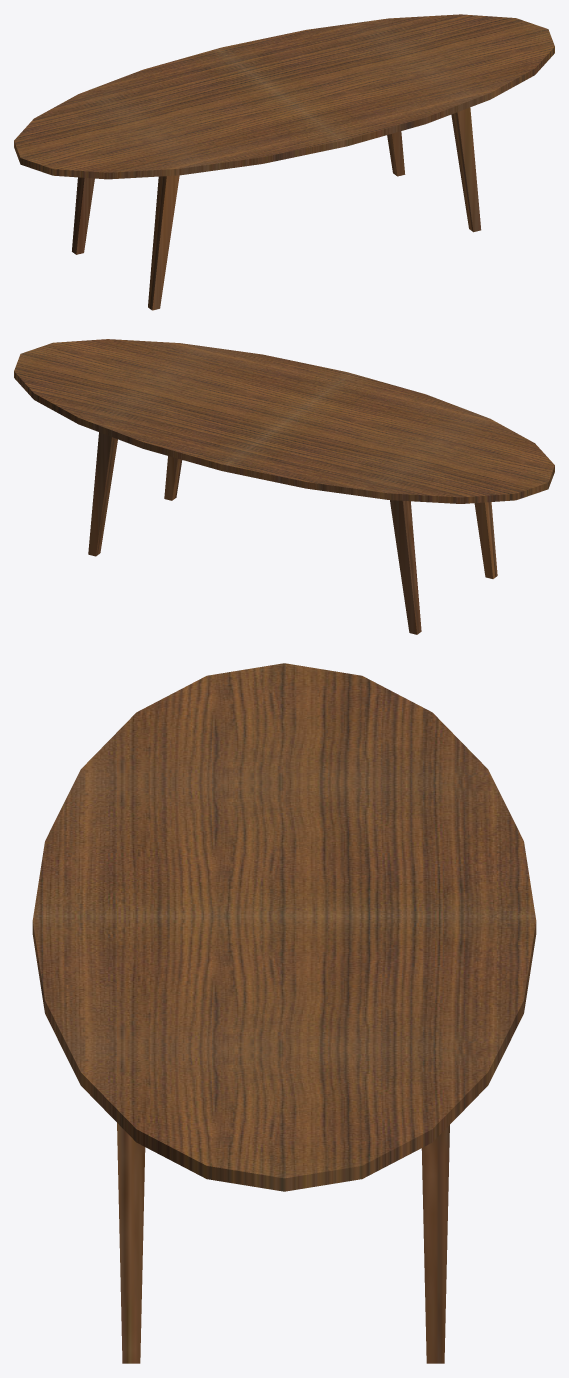
Rendered from bord.fbx.
The picture shows the model from 3 angles, top to bottom: view 1: azimuth 30°, elevation 25°; view 2: azimuth 150°, elevation 25°; view 3: azimuth 270°, elevation 25°; orthographic projection. The views are drawn at different scales.
Parts seen in each view (by area): view 1: pCube6; view 2: pCube6; view 3: pCube6.
Part boxes in pixels (x1,y1,x2,y2): pCube6: (14,14,554,310); pCube6: (14,339,554,634); pCube6: (32,663,536,1363).
Bounding box in the file's own units: 5.3 × 1.39 × 2.19.
